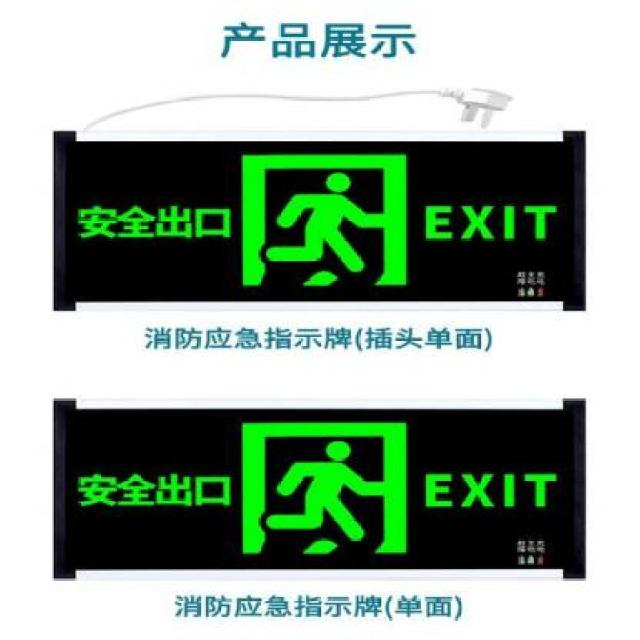exit_sign: (48, 134, 588, 311), (45, 400, 576, 578)
